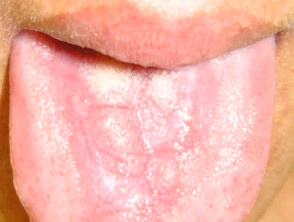SJS-TEN: (68, 30, 218, 222)
